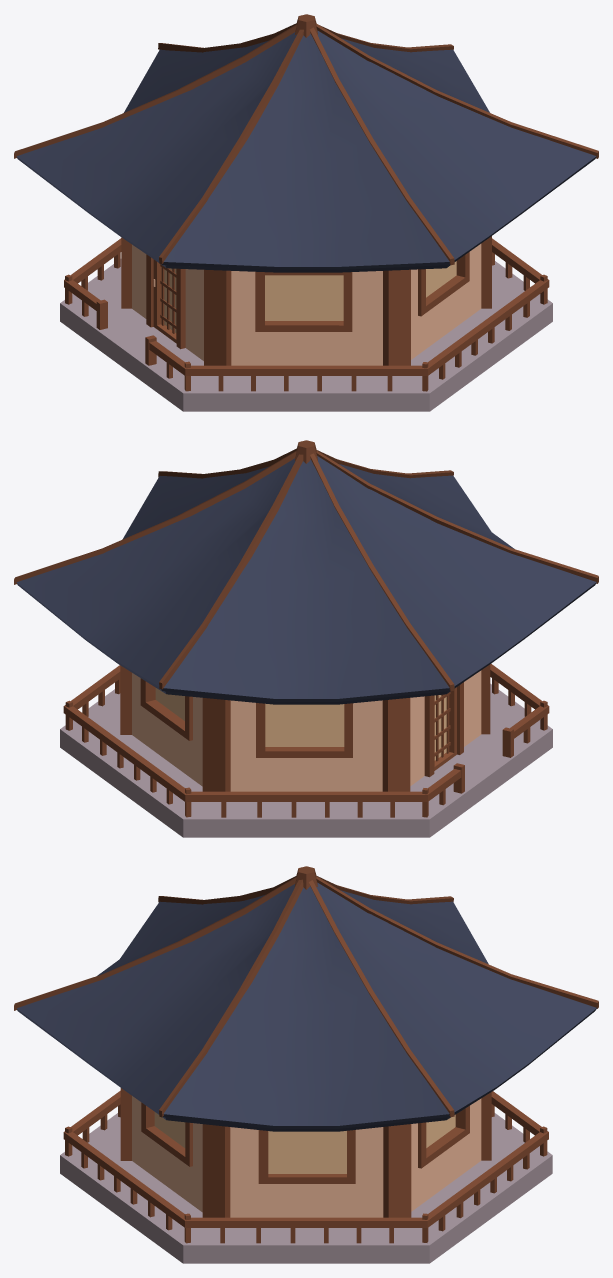
The model's file is houme014_1.fbx.
3 renders of one model, top to bottom at view 1: azimuth 30°, elevation 25°; view 2: azimuth 150°, elevation 25°; view 3: azimuth 270°, elevation 25°, orthographic.
Visible parts, largest first — view 1: houme014_1; view 2: houme014_1; view 3: houme014_1.
Boxes of the visible parts, box(x1,y1,x2,y2) form: houme014_1: box(14, 14, 598, 411); houme014_1: box(14, 440, 598, 837); houme014_1: box(14, 866, 598, 1263).
Bounding box in the file's own units: 1193 × 785 × 1371.
